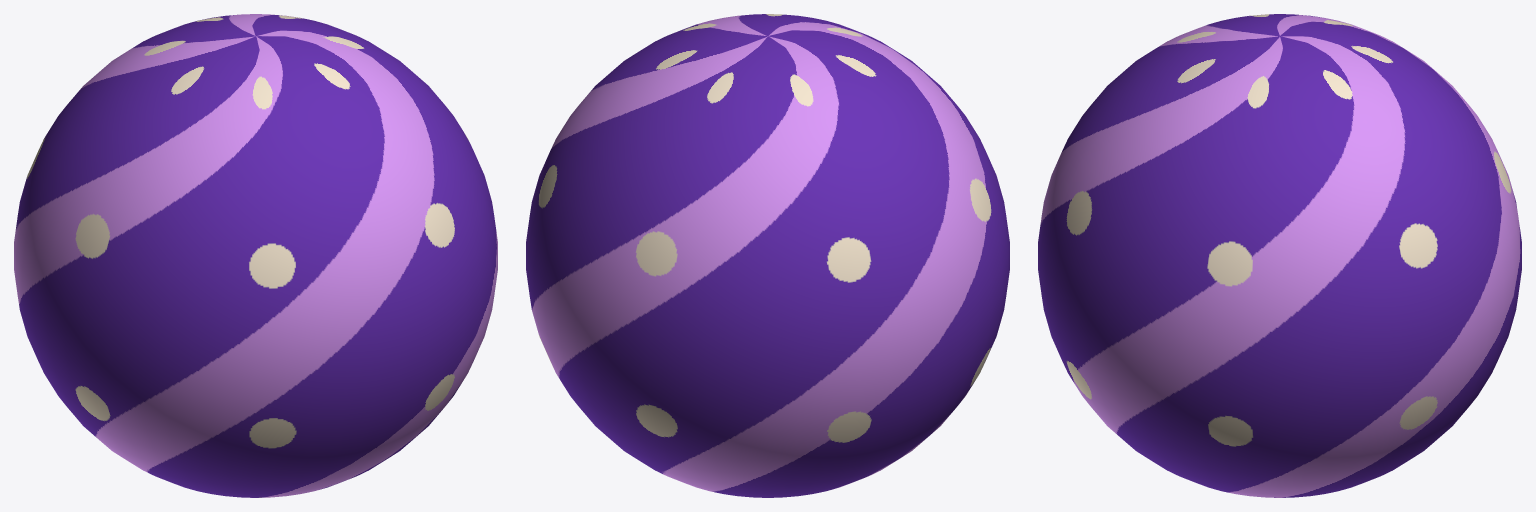
Rendered from ball_b.glb.
3 views of the same model, side by side, from view 1: azimuth 30°, elevation 25°; view 2: azimuth 150°, elevation 25°; view 3: azimuth 270°, elevation 25° (orthographic).
Parts seen in each view (by area): view 1: PaintedSphere; view 2: PaintedSphere; view 3: PaintedSphere.
Part boxes in pixels (x1,y1,x2,y2): PaintedSphere: (14, 14, 497, 497); PaintedSphere: (526, 14, 1009, 497); PaintedSphere: (1038, 14, 1521, 497).
Size of the model in its own units: 2 by 2 by 2.
1 material, 1 textured.
